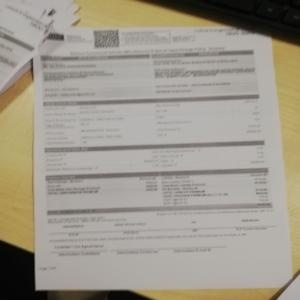table: (38, 94, 265, 142), (36, 47, 262, 94), (44, 168, 275, 205), (40, 141, 267, 169)
